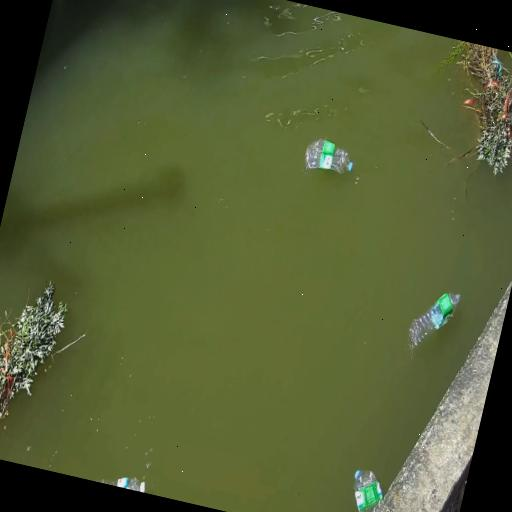plastic: (409, 293, 460, 348), (305, 139, 352, 173), (354, 471, 383, 511), (97, 478, 145, 492)
twig: (0, 281, 75, 421), (441, 41, 512, 175)
